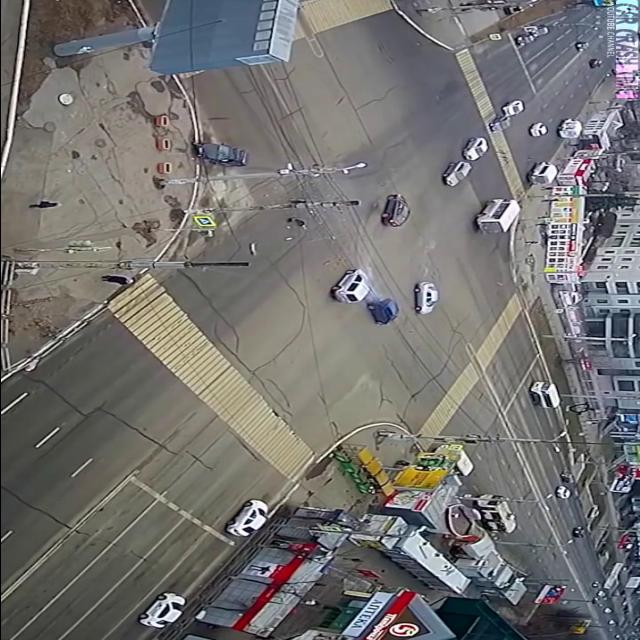accident: (322, 266, 404, 328), (173, 139, 267, 169)
non_accident: (435, 136, 494, 191), (481, 99, 532, 135), (507, 22, 555, 49)
